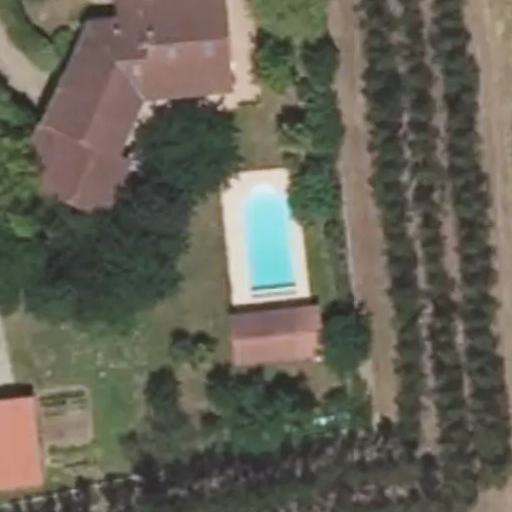pool: (226, 195, 285, 288)
